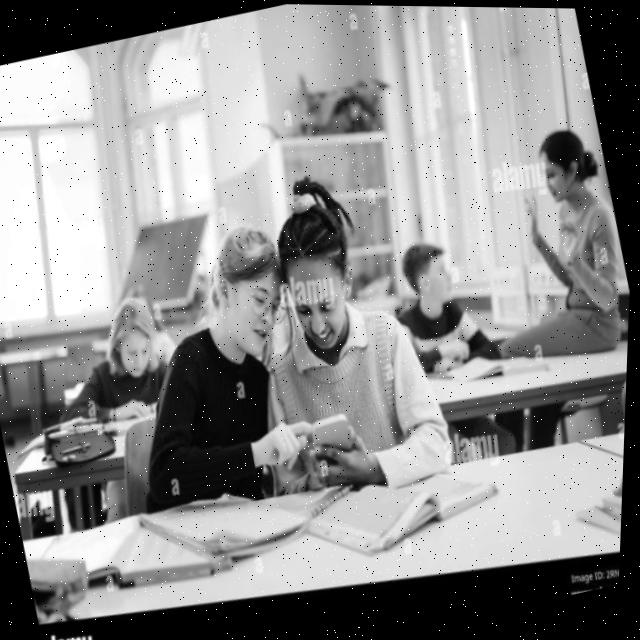phone: (306, 407, 362, 467)
